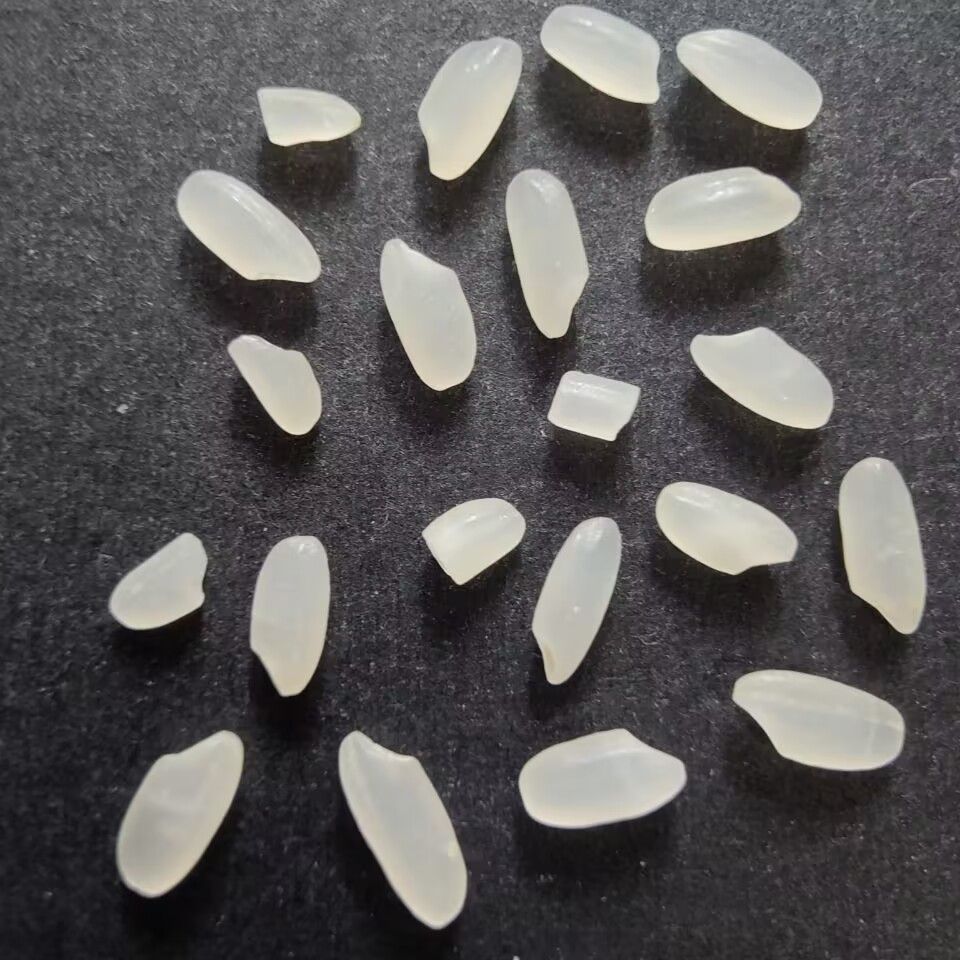broken: (105, 527, 215, 635), (227, 329, 327, 440), (419, 493, 525, 589), (249, 81, 367, 152), (546, 366, 644, 444)
rice: (335, 729, 472, 931), (115, 726, 248, 901), (172, 166, 320, 293), (516, 726, 690, 834), (729, 667, 910, 769), (835, 453, 927, 639), (671, 23, 826, 132), (682, 325, 838, 431), (415, 32, 525, 182), (378, 233, 480, 393), (533, 513, 623, 687), (246, 533, 336, 702), (652, 479, 804, 578), (506, 167, 591, 338), (641, 165, 806, 251), (540, 1, 663, 108)
